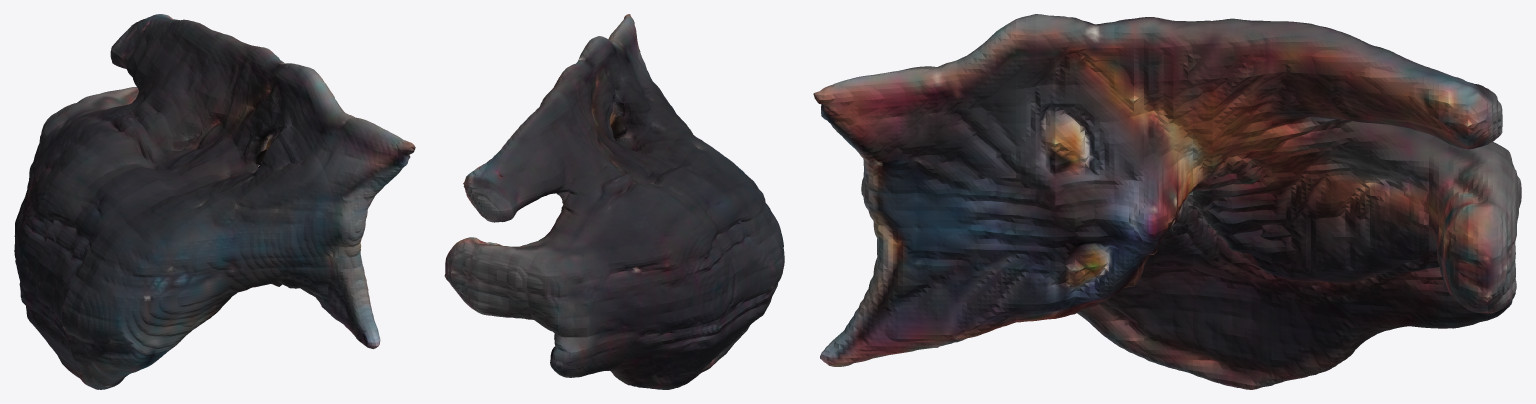
Rendered from blink.glb.
3 renders of one model, left to right at view 1: azimuth 30°, elevation 25°; view 2: azimuth 150°, elevation 25°; view 3: azimuth 270°, elevation 25°, orthographic. The views are drawn at different scales.
Parts seen in each view (by area): view 1: world; view 2: world; view 3: world.
Part boxes in pixels (x1,y1,x2,y2): world: (14,14,415,389); world: (444,14,784,389); world: (813,14,1521,389).
Size of the model in its own units: 0.6358 by 0.7363 by 0.9791.
